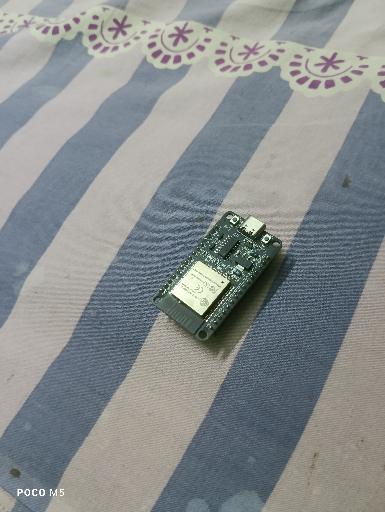Esp32: (151, 209, 283, 341)
